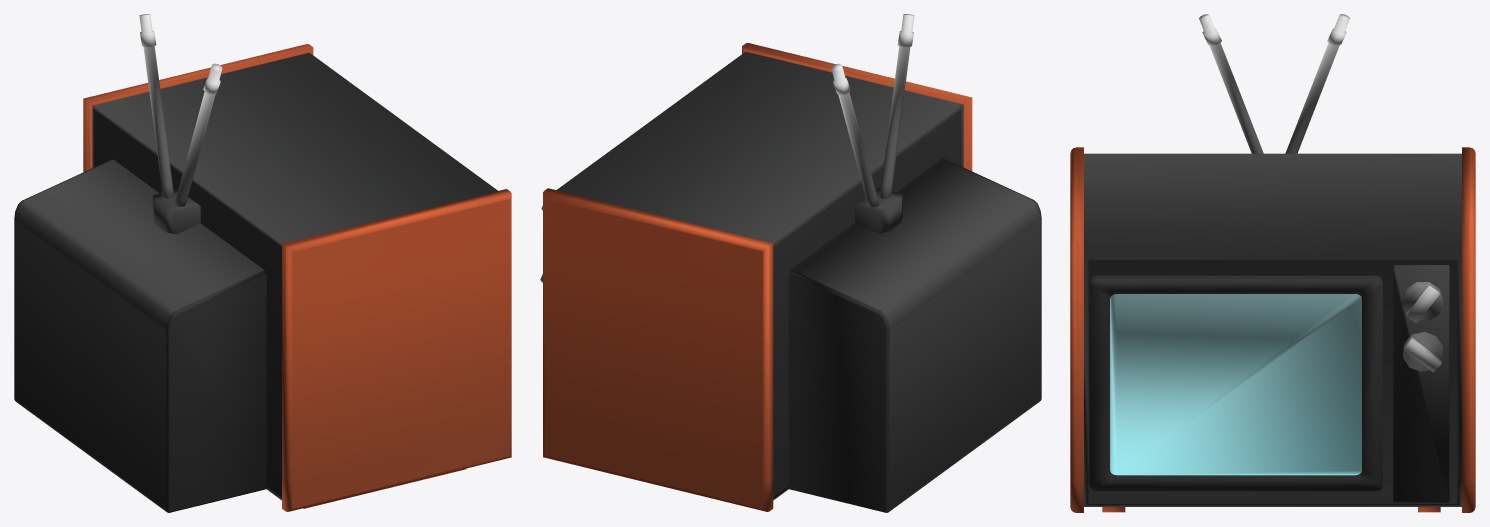
3 views of the same model, side by side, from view 1: azimuth 30°, elevation 25°; view 2: azimuth 150°, elevation 25°; view 3: azimuth 270°, elevation 25° (orthographic). The views are drawn at different scales.
Visible parts, largest first — view 1: Tv.001; view 2: Tv.001; view 3: Tv.001.
Boxes of the visible parts, x1=… form: Tv.001: x1=14, y1=14, x2=511, y2=512; Tv.001: x1=540, y1=14, x2=1041, y2=512; Tv.001: x1=1070, y1=14, x2=1475, y2=512.
Bounding box in the file's own units: 130 × 111 × 119.
